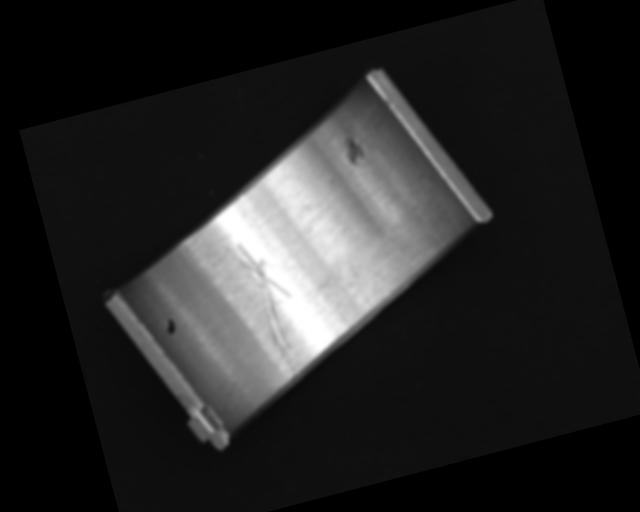blot: (162, 315, 178, 337)
bruise: (341, 133, 367, 167)
nick: (226, 233, 314, 386)
scratch: (326, 215, 457, 317)
